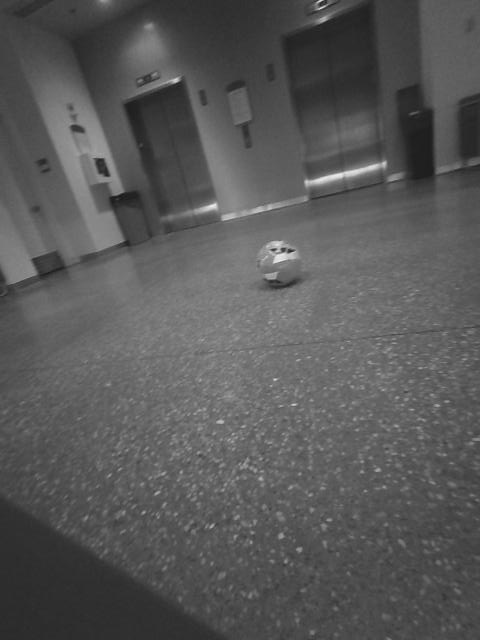ball: (248, 236, 309, 292)
